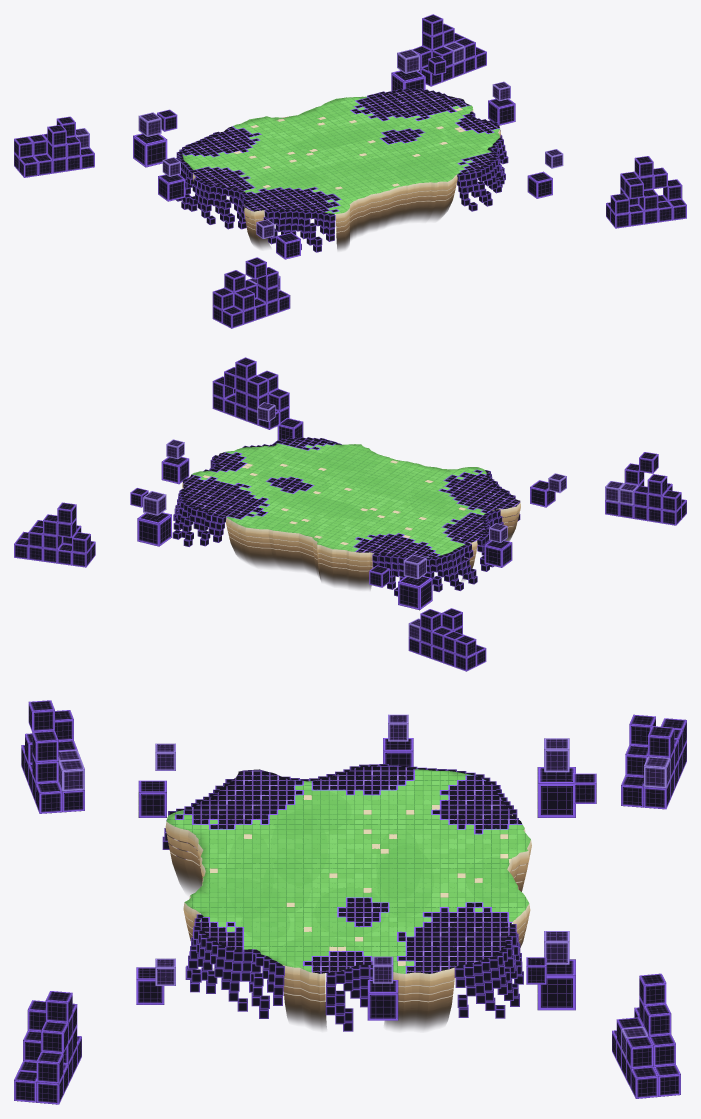
Rendered from digi_farm_3d.glb.
3 views of the same model, one above another, from view 1: azimuth 30°, elevation 25°; view 2: azimuth 150°, elevation 25°; view 3: azimuth 270°, elevation 25° (orthographic). The views are drawn at different scales.
Parts seen in each view (by area): view 1: Island, IslandVoxelEdge, VoxelFragmentsFar04, VoxelFragmentsFar03, VoxelFragmentsFar01, VoxelFragmentsFar02, VoxelFragmentsNear01, VoxelFragmentsNear02, VoxelFragmentsNear03, VoxelFragmentsNear04, VoxelFragmentsNear06, VoxelFragmentsNear05; view 2: Island, IslandVoxelEdge, VoxelFragmentsFar03, VoxelFragmentsFar04, VoxelFragmentsFar02, VoxelFragmentsFar01, VoxelFragmentsNear01, VoxelFragmentsNear02, VoxelFragmentsNear03, VoxelFragmentsNear04, VoxelFragmentsNear05, VoxelFragmentsNear06; view 3: Island, IslandVoxelEdge, VoxelFragmentsFar02, VoxelFragmentsFar04, VoxelFragmentsFar03, VoxelFragmentsFar01, VoxelFragmentsNear01, VoxelFragmentsNear02, VoxelFragmentsNear04, VoxelFragmentsNear05, VoxelFragmentsNear06, VoxelFragmentsNear03.
Boxes of the visible parts, left/top/right/bottom form: Island: left=182, top=89, right=500, bottom=249; IslandVoxelEdge: left=176, top=88, right=508, bottom=252; VoxelFragmentsFar04: left=606, top=156, right=686, bottom=228; VoxelFragmentsFar03: left=212, top=257, right=290, bottom=328; VoxelFragmentsFar01: left=14, top=116, right=94, bottom=177; VoxelFragmentsFar02: left=412, top=14, right=486, bottom=86; VoxelFragmentsNear01: left=133, top=109, right=177, bottom=167; VoxelFragmentsNear02: left=391, top=49, right=446, bottom=90; VoxelFragmentsNear03: left=158, top=157, right=185, bottom=201; VoxelFragmentsNear04: left=488, top=81, right=515, bottom=125; VoxelFragmentsNear06: left=527, top=149, right=563, bottom=198; VoxelFragmentsNear05: left=256, top=219, right=300, bottom=259; Island: left=182, top=438, right=520, bottom=589; IslandVoxelEdge: left=172, top=437, right=520, bottom=596; VoxelFragmentsFar03: left=605, top=452, right=686, bottom=525; VoxelFragmentsFar04: left=212, top=357, right=289, bottom=429; VoxelFragmentsFar02: left=14, top=502, right=95, bottom=567; VoxelFragmentsFar01: left=408, top=608, right=486, bottom=671; VoxelFragmentsNear01: left=369, top=554, right=432, bottom=610; VoxelFragmentsNear02: left=130, top=488, right=171, bottom=546; VoxelFragmentsNear03: left=484, top=523, right=512, bottom=567; VoxelFragmentsNear04: left=161, top=439, right=189, bottom=484; VoxelFragmentsNear05: left=530, top=473, right=566, bottom=507; VoxelFragmentsNear06: left=257, top=402, right=303, bottom=440; Island: left=165, top=765, right=531, bottom=1029; IslandVoxelEdge: left=162, top=764, right=523, bottom=1031; VoxelFragmentsFar02: left=612, top=973, right=680, bottom=1098; VoxelFragmentsFar04: left=14, top=991, right=81, bottom=1104; VoxelFragmentsFar03: left=21, top=700, right=84, bottom=813; VoxelFragmentsFar01: left=621, top=714, right=686, bottom=809; VoxelFragmentsNear01: left=537, top=738, right=596, bottom=817; VoxelFragmentsNear02: left=526, top=931, right=575, bottom=1010; VoxelFragmentsNear04: left=367, top=956, right=398, bottom=1020; VoxelFragmentsNear05: left=138, top=743, right=175, bottom=817; VoxelFragmentsNear06: left=136, top=958, right=175, bottom=1004; VoxelFragmentsNear03: left=383, top=714, right=413, bottom=767.
Size of the model in its own units: 3.19 by 0.49 by 2.63.
5 materials, 5 textured.
